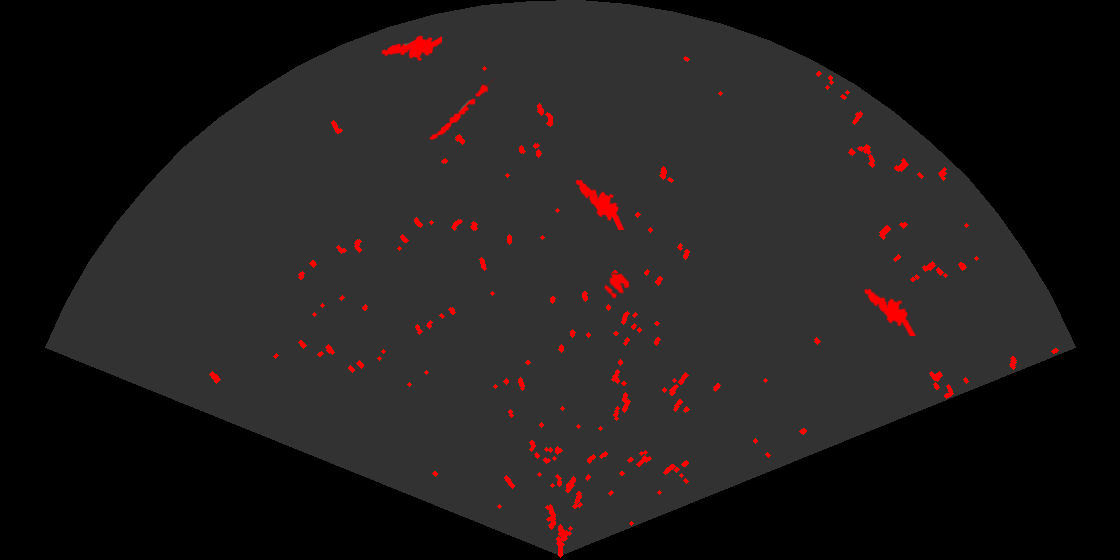ball: (603, 272, 631, 300)
chain: (428, 78, 497, 142)
frogman: (860, 279, 916, 336), (574, 177, 626, 230), (380, 34, 442, 63)
